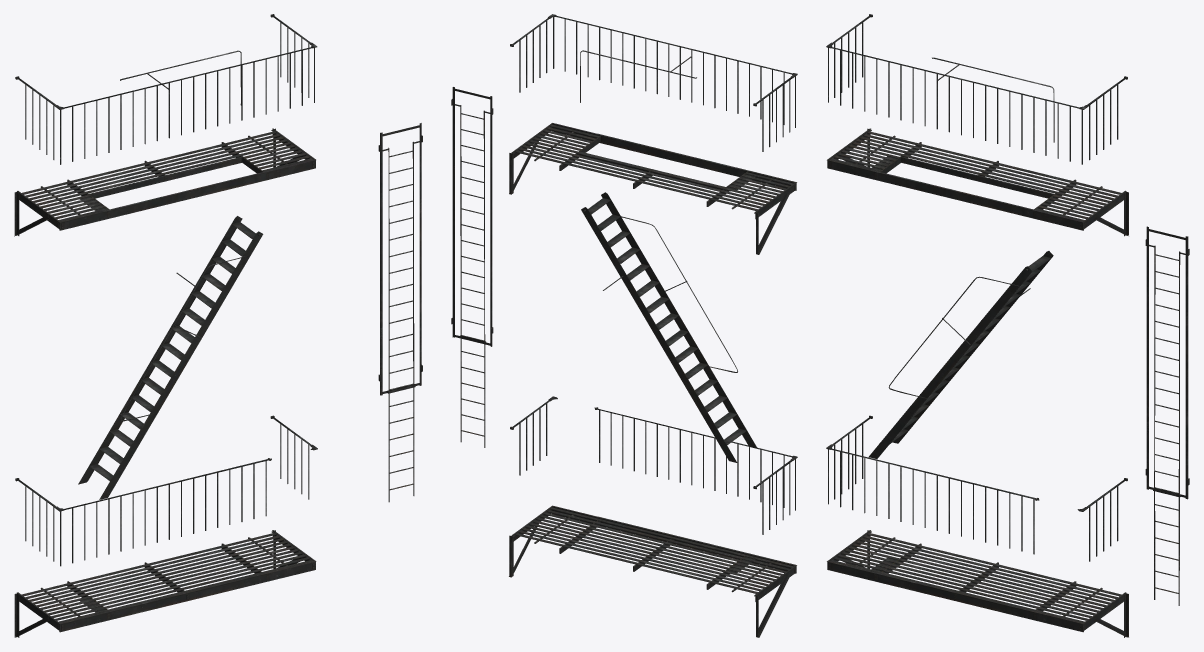
File: modular_fire_escape.glb
The picture shows the model from 3 angles, left to right: view 1: azimuth 30°, elevation 25°; view 2: azimuth 150°, elevation 25°; view 3: azimuth 330°, elevation 25°; orthographic projection. The views are drawn at different scales.
Parts seen in each view (by area): view 1: modular_fire_escape_platform_middle, modular_fire_escape_railing_middle; view 2: modular_fire_escape_platform_middle, modular_fire_escape_railing_middle; view 3: modular_fire_escape_platform_middle, modular_fire_escape_railing_middle.
Part boxes in pixels (x1,y1,x2,y2): modular_fire_escape_platform_middle: (14,128,316,637); modular_fire_escape_railing_middle: (15,14,422,566); modular_fire_escape_platform_middle: (509,123,796,637); modular_fire_escape_railing_middle: (451,14,797,534); modular_fire_escape_platform_middle: (827,128,1128,637); modular_fire_escape_railing_middle: (826,14,1189,605).
Bounding box in the file's own units: 6.66 × 9.76 × 1.42.
Materials: 2 (2 with a texture image).
